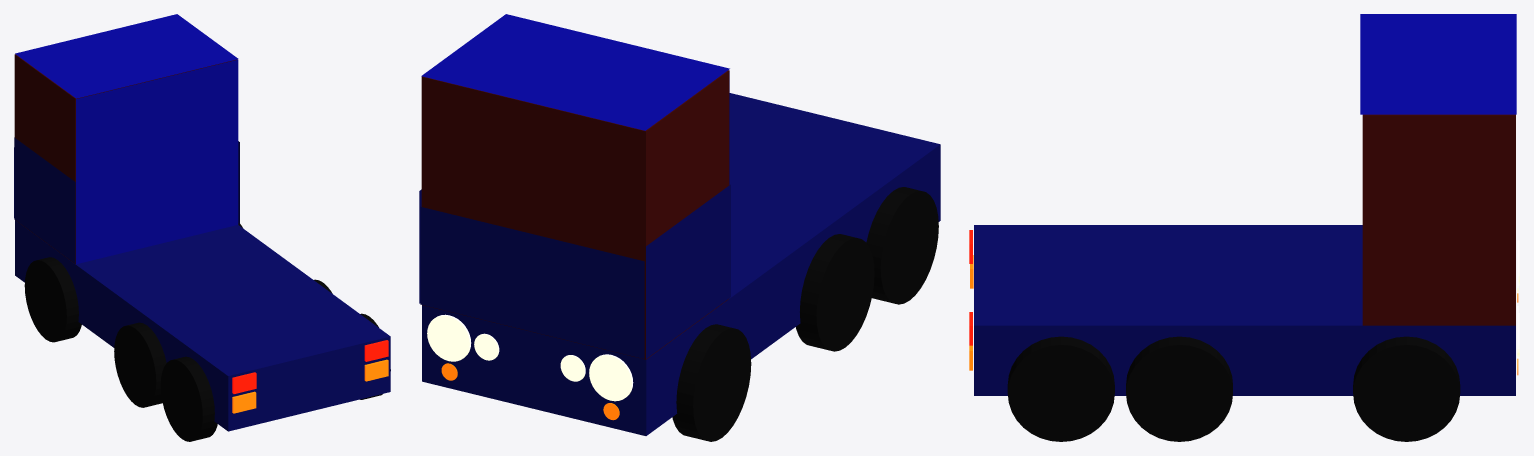
Rendered from truck2.fbx.
3 views of the same model, side by side, from view 1: azimuth 30°, elevation 25°; view 2: azimuth 150°, elevation 25°; view 3: azimuth 270°, elevation 25° (orthographic). The views are drawn at different scales.
Visible parts, largest first — view 1: Cube.075, Plane.143, Plane.142, Cube.077, Plane.145, Circle.256, Circle.258, Circle.260, Plane.147, Plane.148, Plane.150, Plane.149; view 2: Cube.075, Cube.077, Plane.146, Plane.142, Plane.145, Circle.256, Circle.260, Circle.258, Cube.076, Circle.263, Circle.262, Circle.266 (+1 smaller); view 3: Cube.075, Cube.077, Cube.076, Plane.142, Circle.259, Circle.257, Circle.261.
Part boxes in pixels (x1,y1,x2,y2): Cube.075: (15,220,390,431); Plane.143: (76,59,238,264); Plane.142: (15,14,238,98); Cube.077: (14,54,237,181); Plane.145: (14,137,75,263); Circle.256: (24,257,81,342); Circle.258: (160,356,217,441); Circle.260: (114,322,166,407); Plane.147: (232,372,256,393); Plane.148: (364,340,388,361); Plane.150: (364,359,388,381); Plane.149: (232,391,256,413); Cube.075: (422,93,940,435); Cube.077: (421,70,729,245); Plane.146: (420,206,644,358); Plane.142: (421,14,729,130); Plane.145: (646,184,730,358); Circle.256: (672,324,751,441); Circle.260: (796,234,874,351); Circle.258: (866,187,938,304); Cube.076: (421,190,729,359); Circle.263: (589,354,633,401); Circle.262: (427,314,471,361); Circle.266: (474,333,499,360); Cube.075: (974,225,1515,395); Cube.077: (1362,114,1515,221); Cube.076: (1362,219,1515,325); Plane.142: (1360,14,1516,114); Circle.259: (1007,336,1114,441); Circle.257: (1353,336,1460,441); Circle.261: (1126,336,1232,441).
Bounding box in the file's own units: 341 × 436 × 681.
